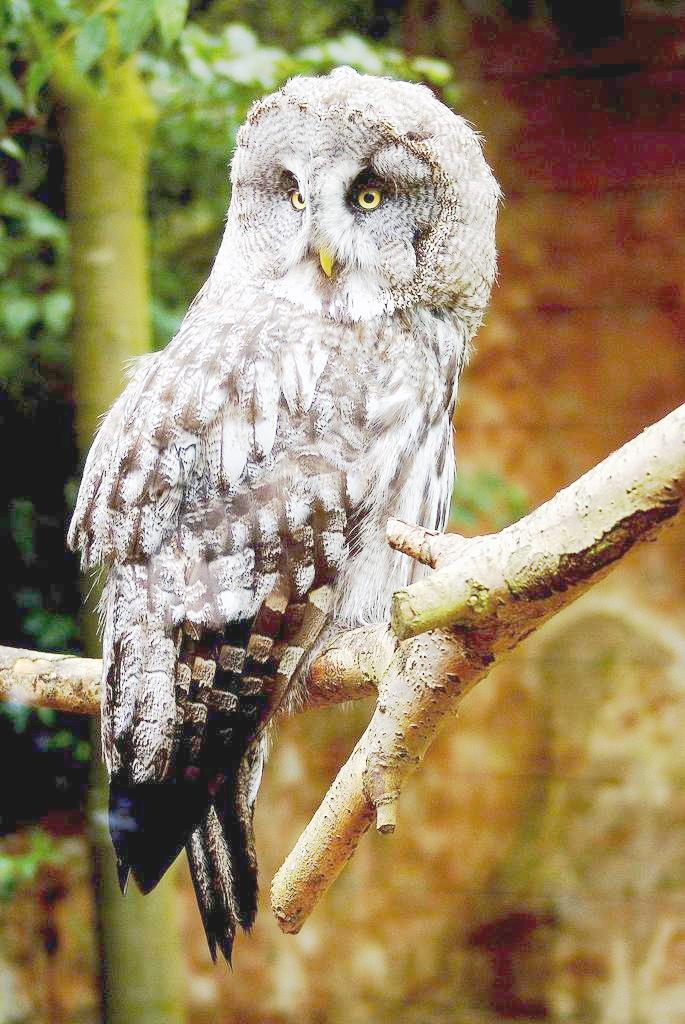Owl: (62, 61, 511, 970)
